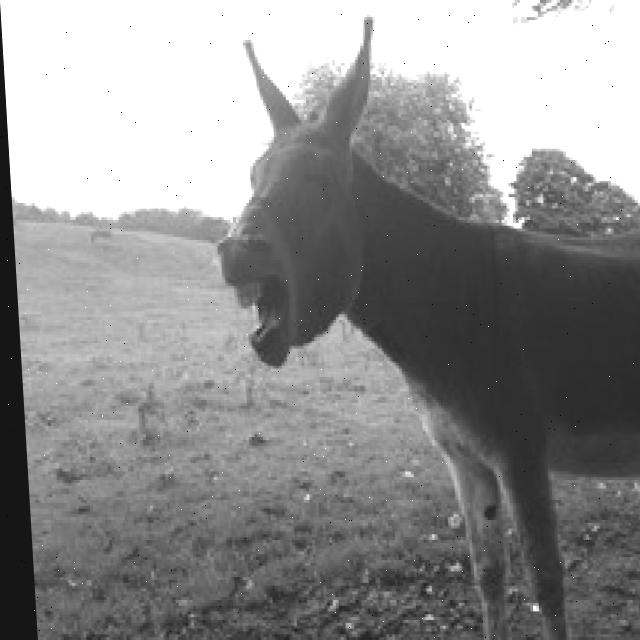Donkey: (201, 12, 640, 637)
